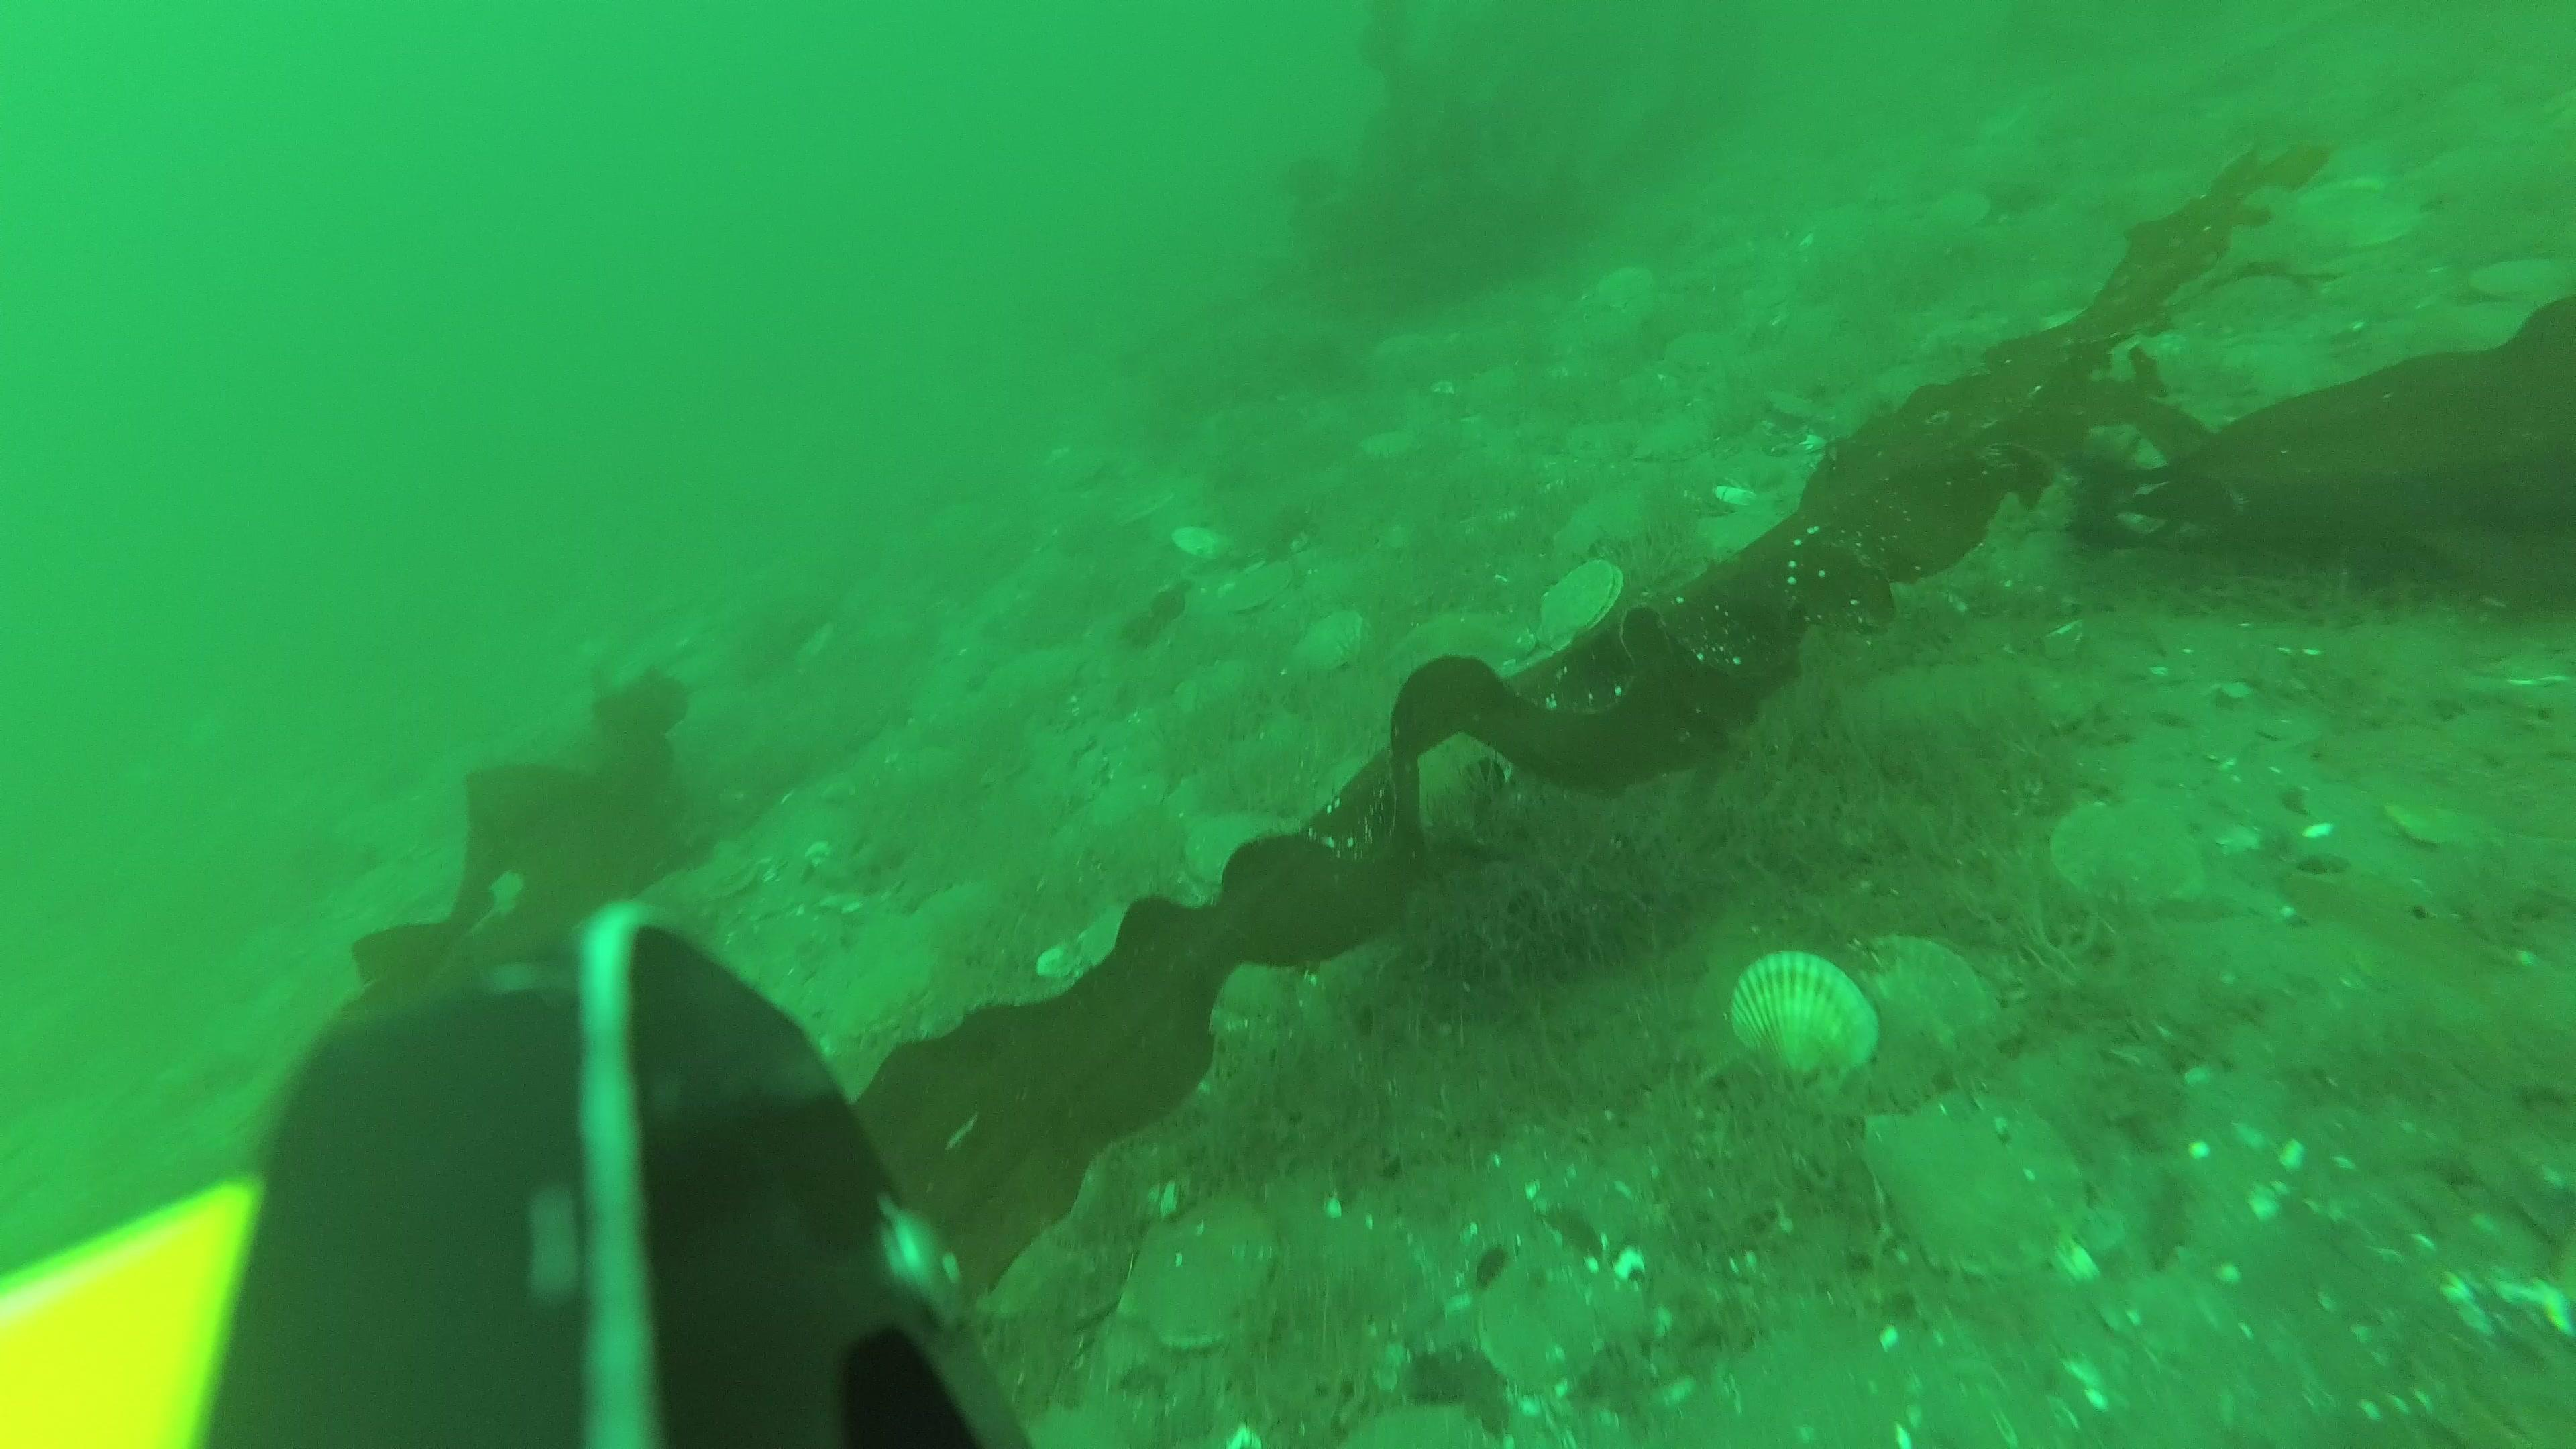scallop: (1888, 1093, 2063, 1277), (1734, 952, 1884, 1092), (1131, 1212, 1269, 1343), (2051, 800, 2199, 918), (1481, 1272, 1606, 1399), (812, 924, 952, 1033), (1856, 947, 1978, 1060), (1182, 812, 1302, 895), (1536, 563, 1621, 637), (1292, 612, 1380, 678), (1224, 550, 1299, 628)
